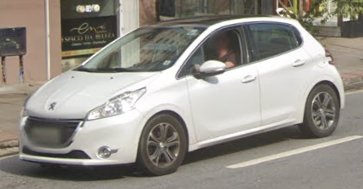car: (17, 14, 345, 175)
